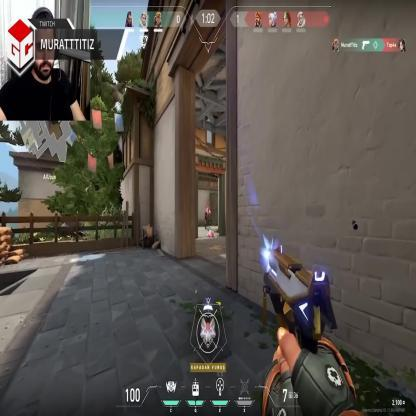enemy: (204, 205, 211, 230)
enemy_head: (208, 206, 210, 210)
